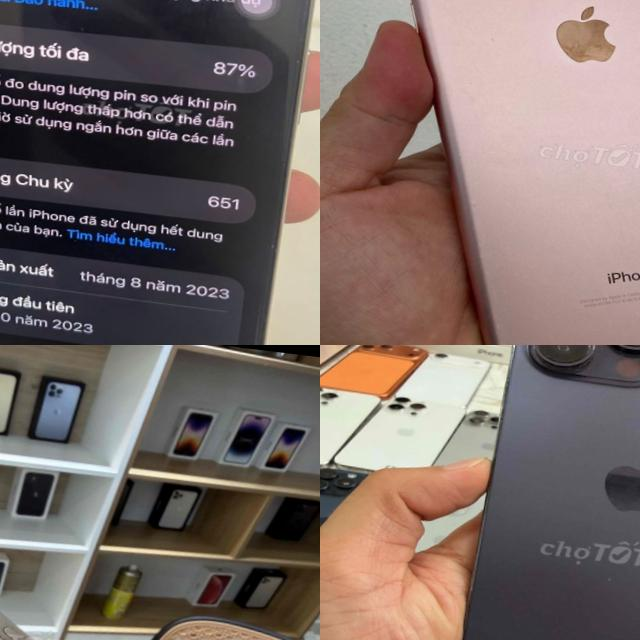gen_14: (448, 345, 640, 640)
gen_15: (0, 0, 320, 345)
gen_16: (0, 449, 248, 640)
gen_7_8: (334, 0, 640, 345)
